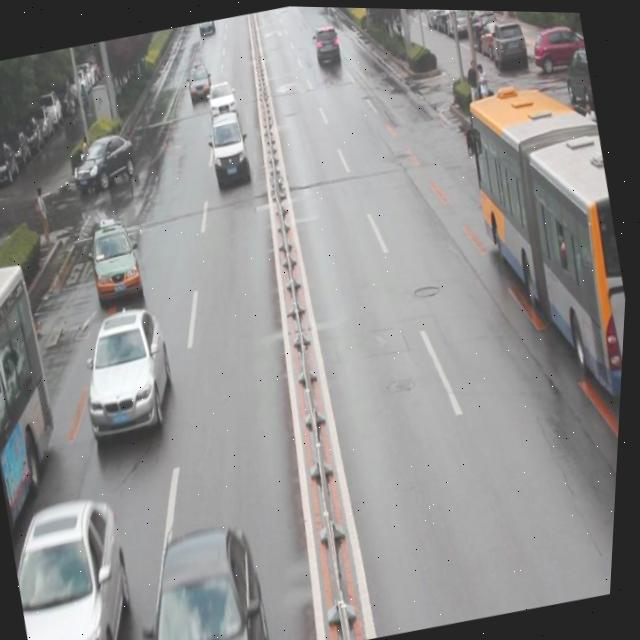car: (9, 496, 160, 640), (137, 518, 283, 640), (72, 302, 190, 445), (83, 215, 152, 311), (68, 130, 144, 194), (204, 77, 242, 128)
truck: (206, 109, 256, 187)
van: (445, 72, 637, 406), (0, 260, 100, 607)
